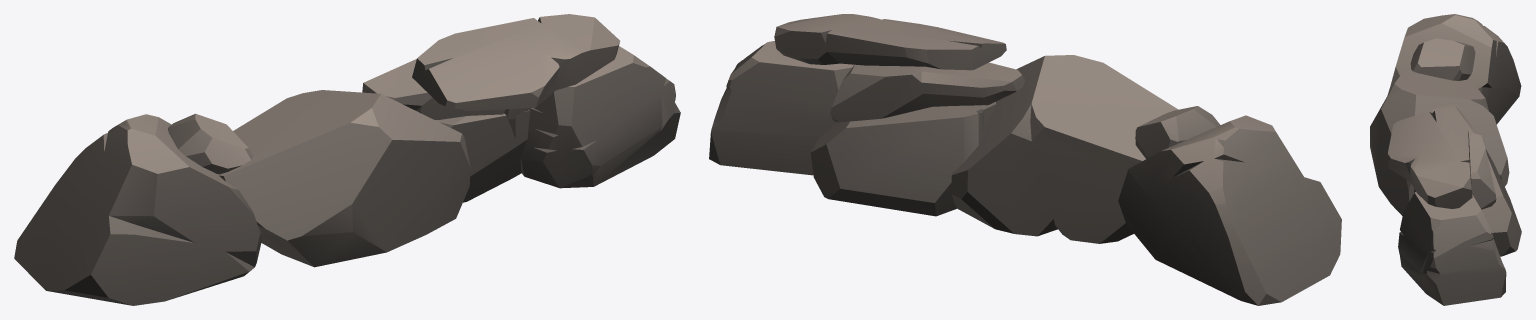
Rendered from Cliff_Horizontal_1B.fbx.
3 views of the same model, side by side, from view 1: azimuth 30°, elevation 25°; view 2: azimuth 150°, elevation 25°; view 3: azimuth 270°, elevation 25° (orthographic). The views are drawn at different scales.
Visible parts, largest first — view 1: Cliff_Horizontal_1B; view 2: Cliff_Horizontal_1B; view 3: Cliff_Horizontal_1B.
Boxes of the visible parts, <box> form: Cliff_Horizontal_1B: <box>14,14,680,305</box>; Cliff_Horizontal_1B: <box>709,14,1341,305</box>; Cliff_Horizontal_1B: <box>1370,14,1521,305</box>.
Size of the model in its own units: 4721 by 1029 by 1347.
